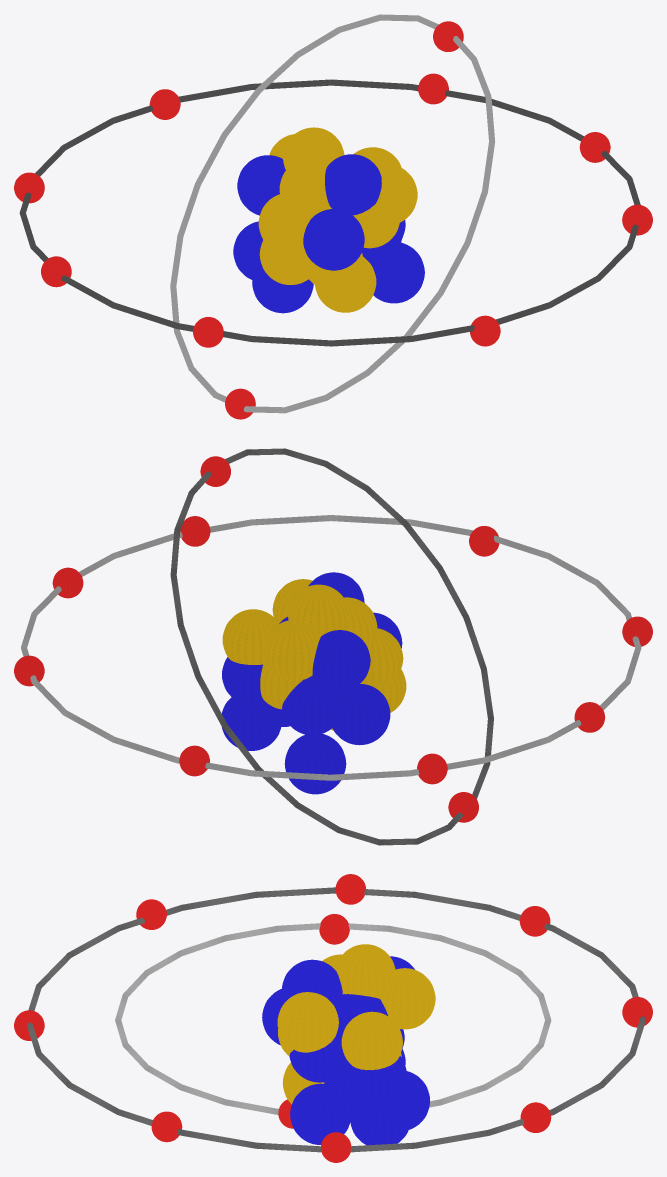
The model's file is neonn.fbx.
The picture shows the model from 3 angles, top to bottom: view 1: azimuth 30°, elevation 25°; view 2: azimuth 150°, elevation 25°; view 3: azimuth 270°, elevation 25°; orthographic projection.
Parts seen in each view (by area): view 1: node_id46, node_id10, node_id38, node_id28, node_id67, node_id20, node_id73, node_id8, node_id69, node_id12, node_id63, node_id54 (+13 smaller); view 2: node_id46, node_id10, node_id56, node_id8, node_id50, node_id36, node_id4, node_id34, node_id30, node_id54, node_id73, node_id65 (+15 smaller); view 3: node_id46, node_id10, node_id63, node_id34, node_id54, node_id67, node_id50, node_id4, node_id28, node_id65, node_id52, node_id58 (+13 smaller).
Boxes of the visible parts, x1,y1,x2,y2 form: node_id46: [19, 79, 640, 346]; node_id10: [170, 14, 495, 413]; node_id38: [303, 209, 364, 270]; node_id28: [325, 154, 381, 215]; node_id67: [366, 242, 424, 303]; node_id20: [315, 255, 376, 312]; node_id73: [258, 194, 315, 246]; node_id8: [237, 155, 285, 215]; node_id69: [279, 160, 331, 214]; node_id12: [259, 240, 318, 284]; node_id63: [376, 164, 417, 222]; node_id54: [283, 127, 344, 169]; node_id46: [21, 515, 641, 780]; node_id10: [170, 448, 493, 845]; node_id56: [329, 684, 390, 745]; node_id8: [312, 630, 370, 691]; node_id50: [264, 619, 321, 680]; node_id36: [284, 733, 346, 794]; node_id4: [222, 697, 282, 750]; node_id34: [222, 609, 278, 664]; node_id30: [282, 675, 339, 734]; node_id54: [288, 584, 348, 635]; node_id73: [360, 628, 403, 685]; node_id65: [222, 657, 265, 703]; node_id46: [27, 887, 645, 1152]; node_id10: [115, 923, 551, 1114]; node_id63: [277, 992, 338, 1052]; node_id34: [341, 1011, 402, 1070]; node_id54: [335, 944, 395, 998]; node_id67: [290, 1083, 350, 1144]; node_id50: [380, 968, 435, 1029]; node_id4: [350, 1094, 411, 1145]; node_id28: [281, 959, 342, 1007]; node_id65: [348, 1056, 406, 1104]; node_id52: [289, 1030, 345, 1082]; node_id58: [324, 1058, 368, 1114].
Size of the model in its own units: 0.512 by 0.2844 by 0.5099.
